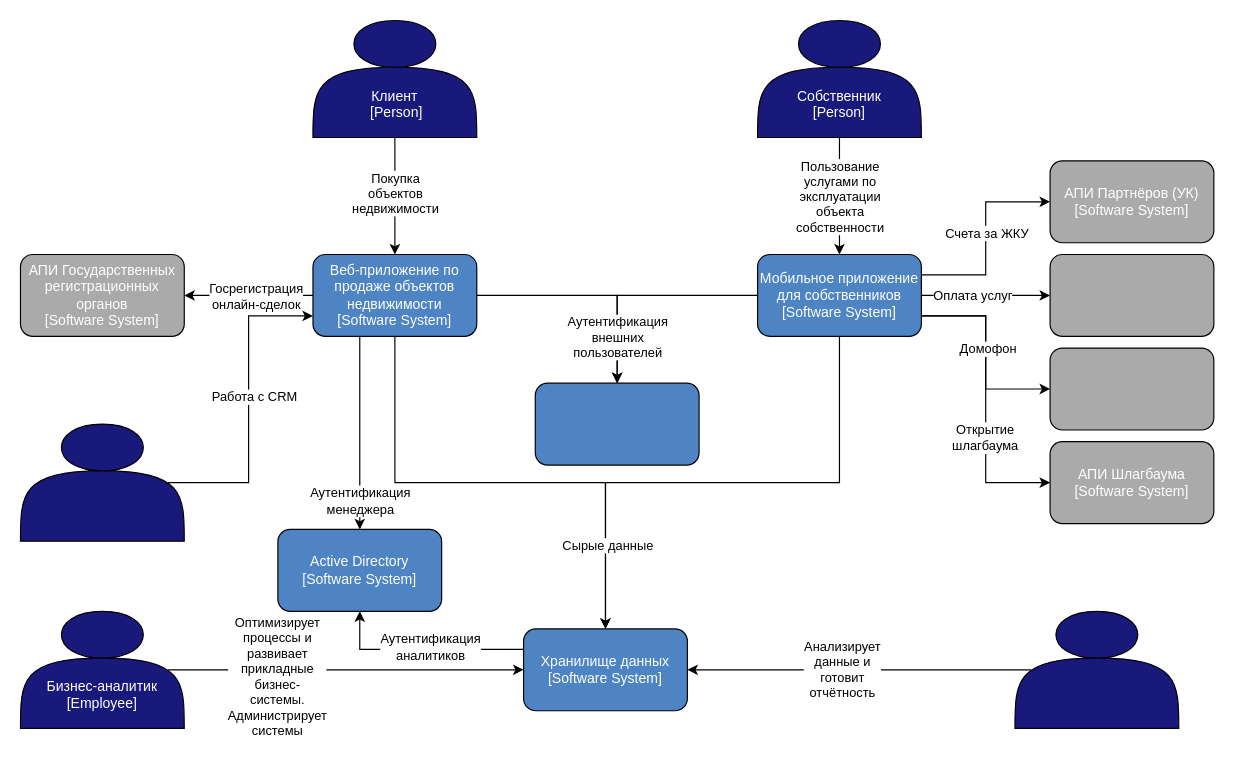
Image size: 1234x758. Some labels were removed from this diagram. The centre of each missing label's shape, as x and y in pixels:
Аналитик BI [Employee]: point 1096,669
АПИ Домофона [Software System]: point 1131,388
Менеджер [Employee]: point 101,482
Платежная система [Software System]: point 1131,294
Сервис аутентификации [Software System]: point 616,423
